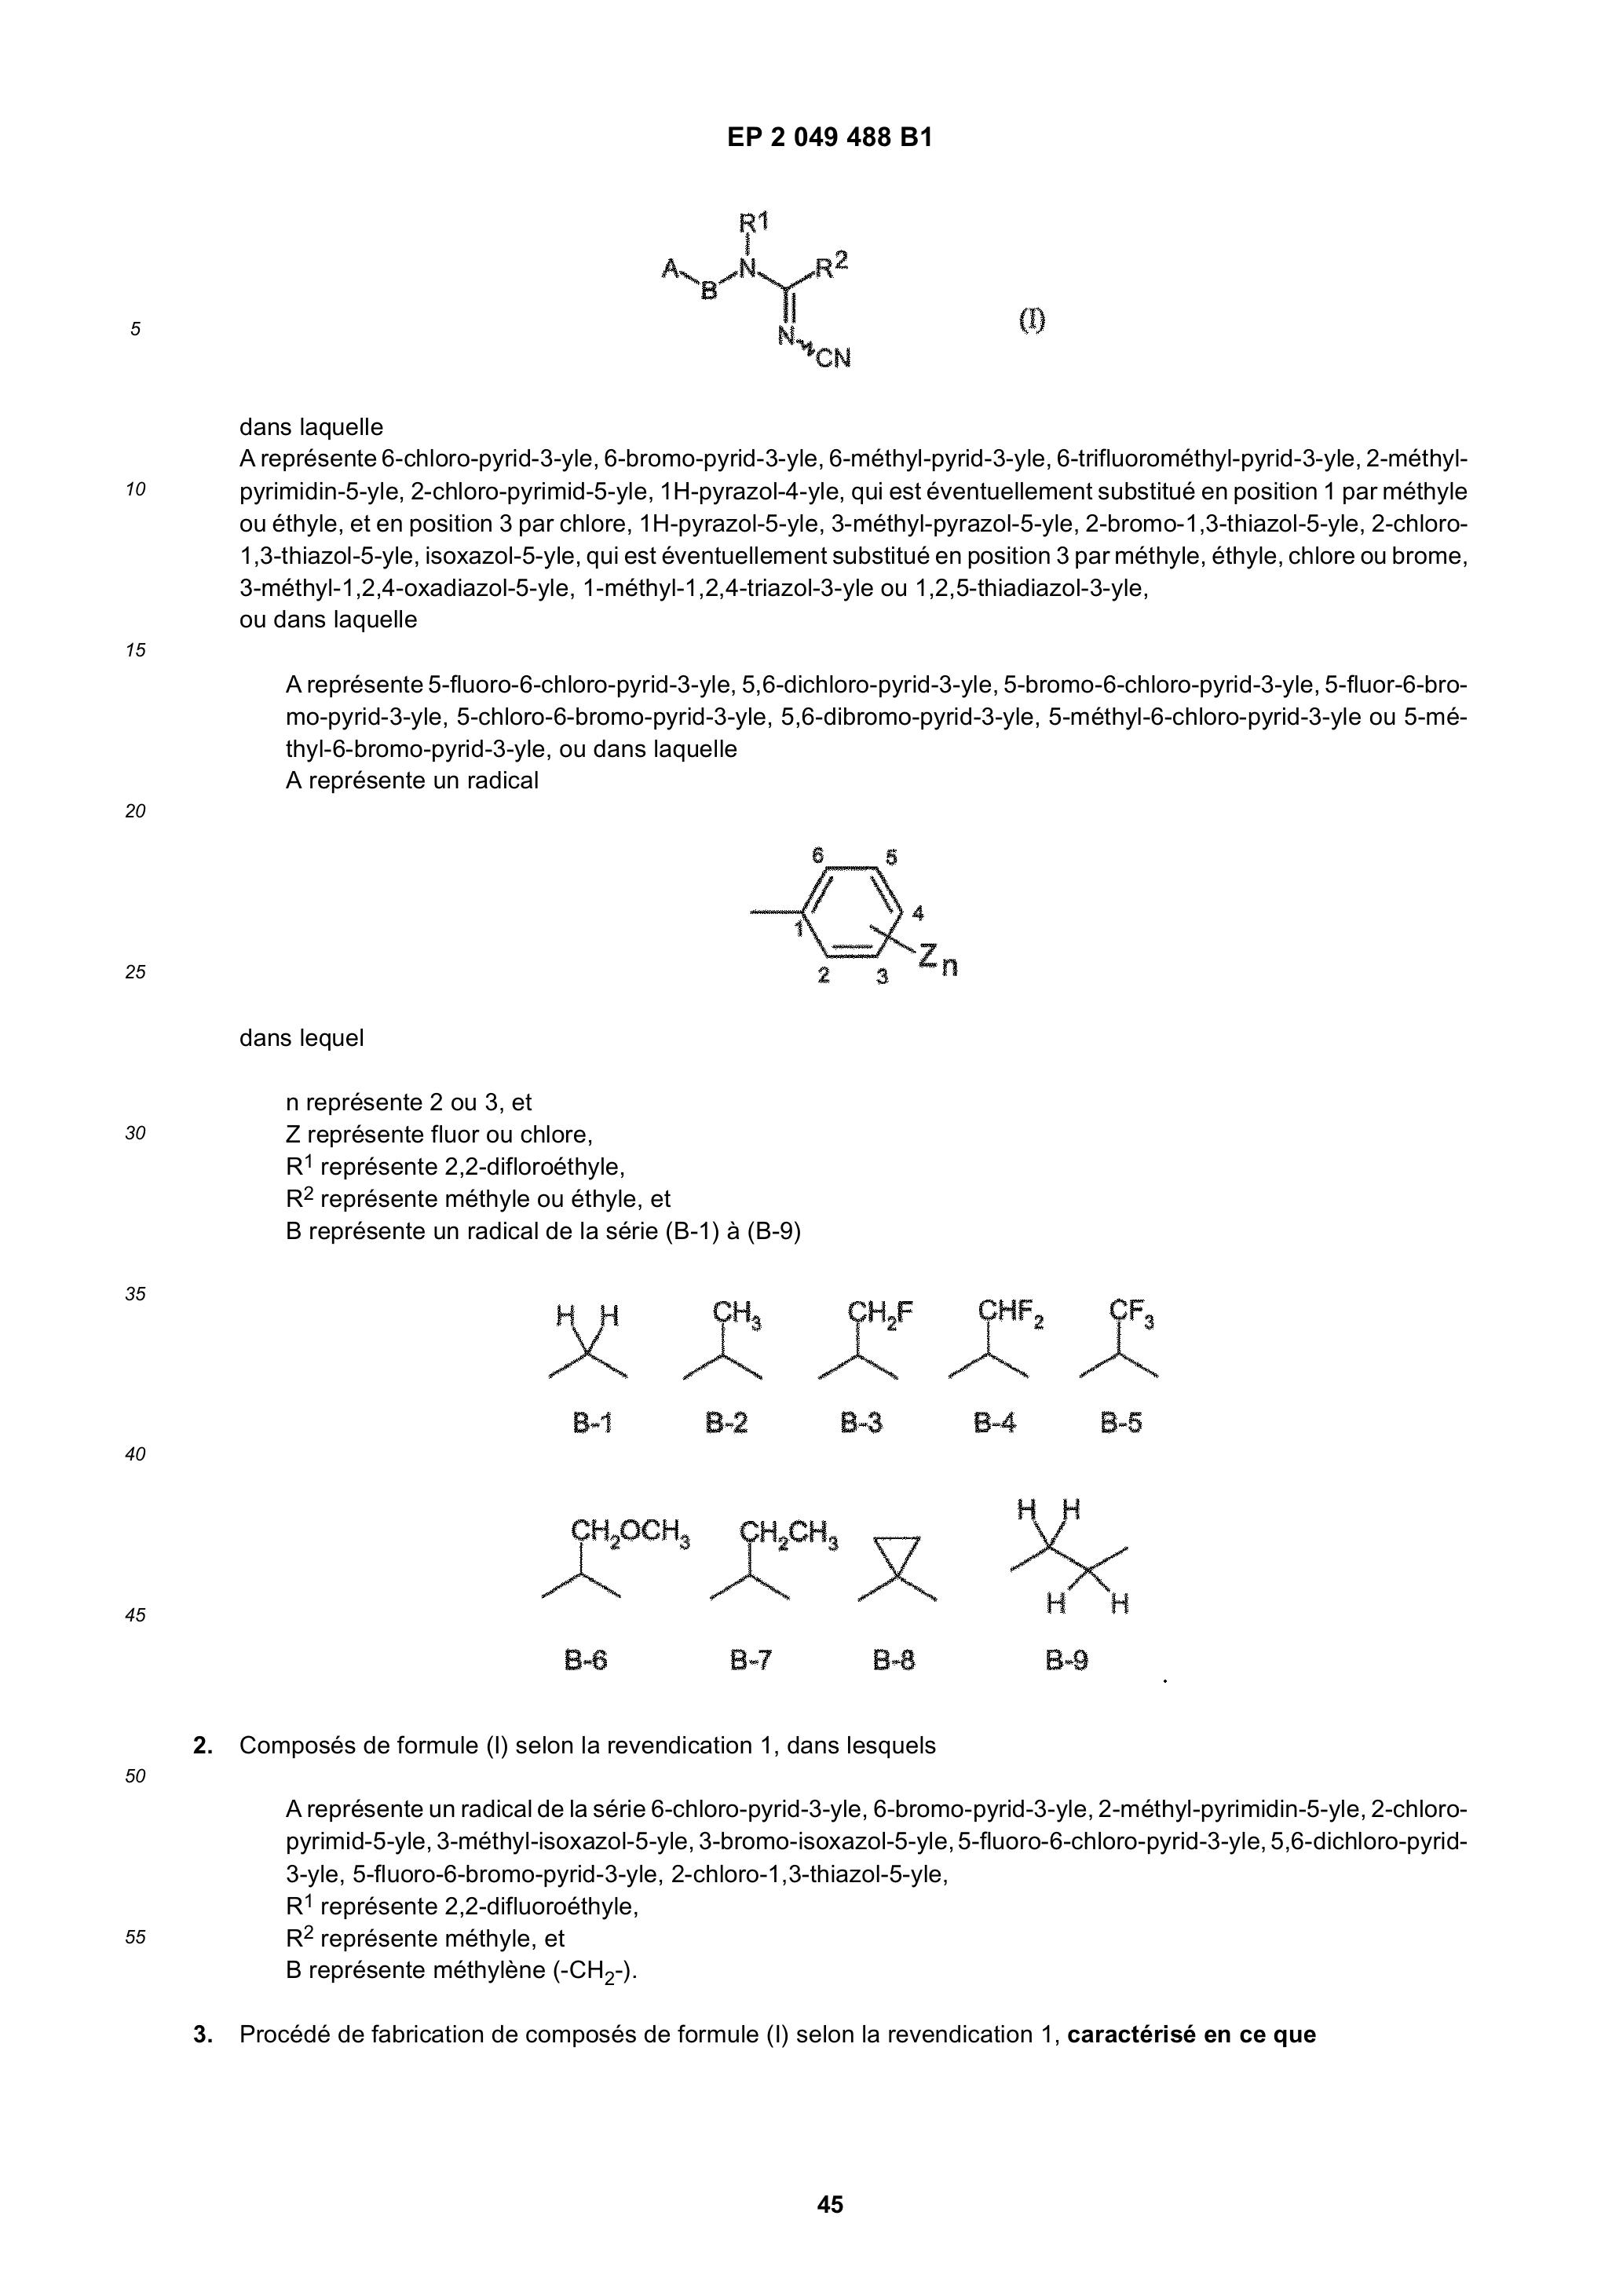markush-structures: (664, 167, 889, 386)
substitutes: (734, 833, 975, 996), (492, 1483, 690, 1613), (985, 1488, 1149, 1620), (701, 1500, 838, 1614), (801, 1284, 931, 1390), (527, 1289, 636, 1393), (950, 1279, 1047, 1391), (1080, 1282, 1186, 1384), (666, 1293, 771, 1391), (857, 1505, 929, 1609)
